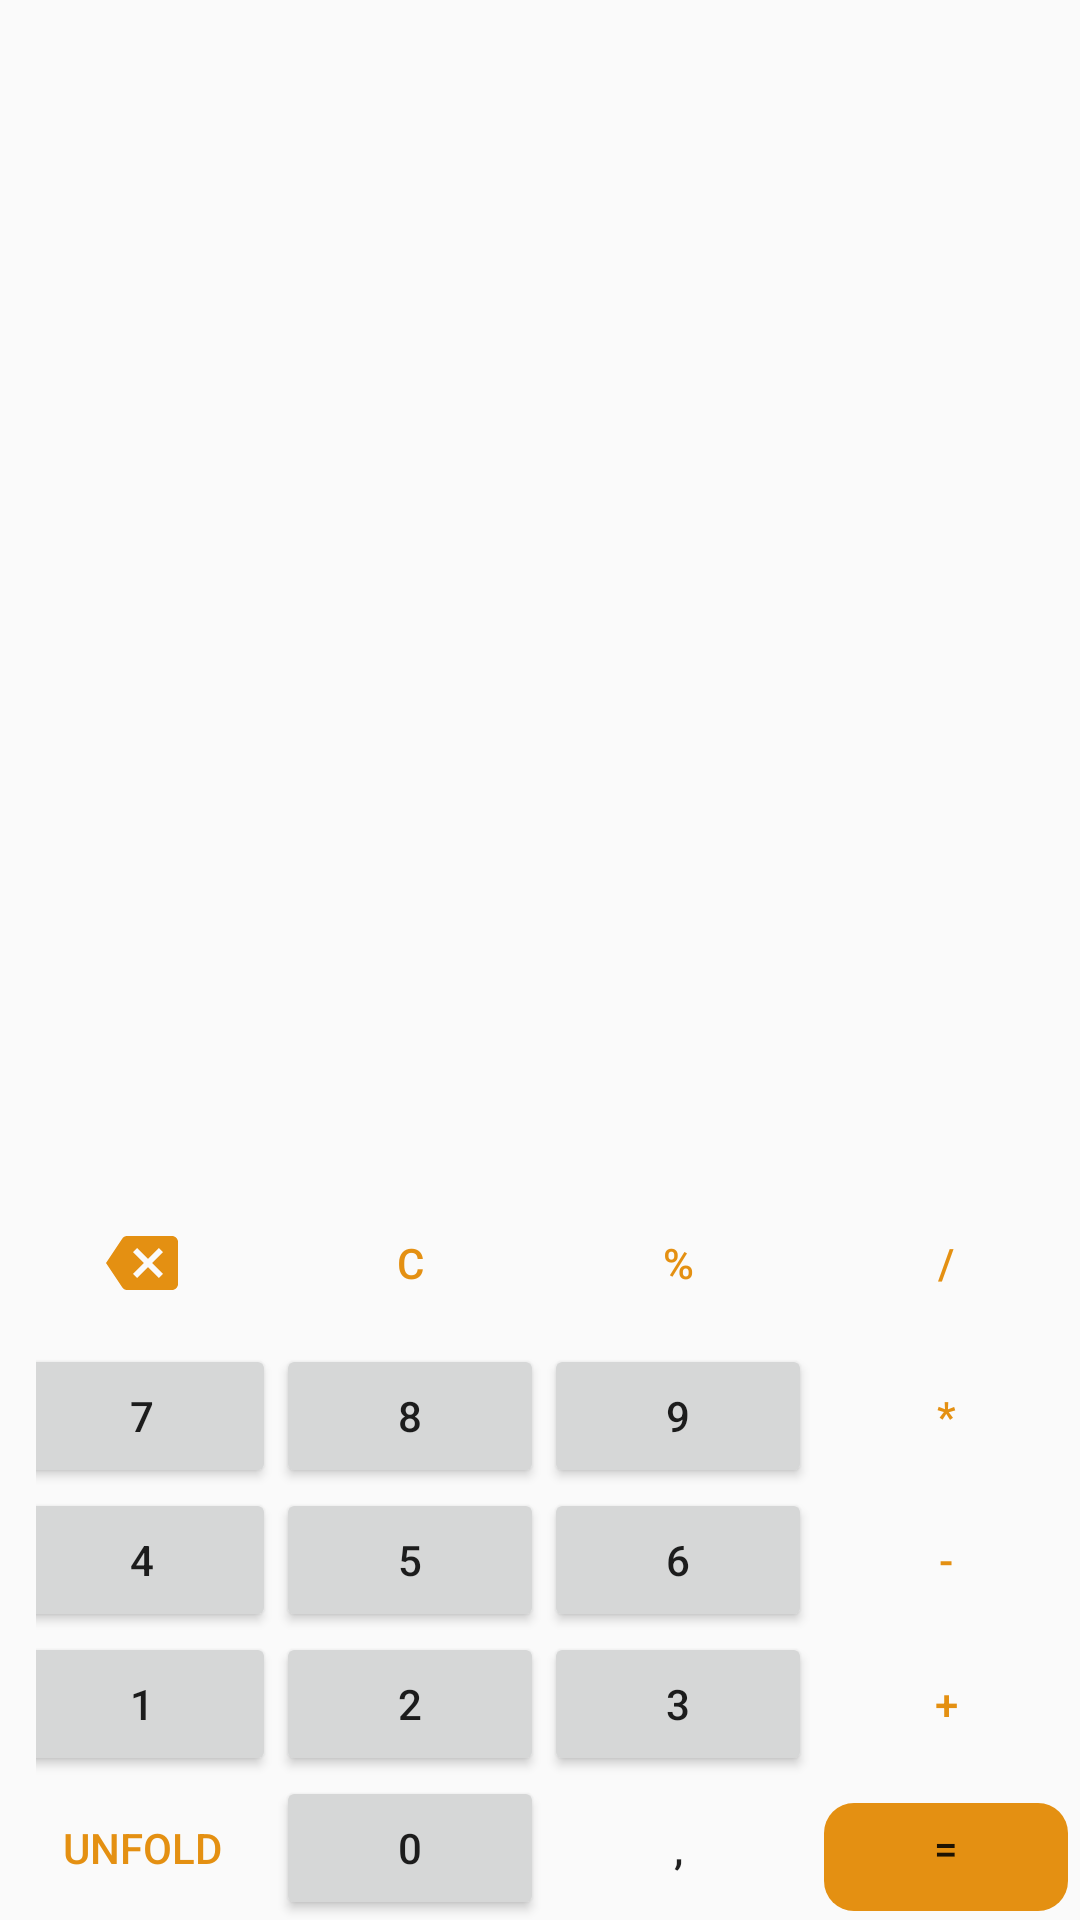

Locate icon controls on the screen. Image size 1080px×1920px, boxes as (x1, y1, x2, y2).
del: (106, 1236, 178, 1290)
